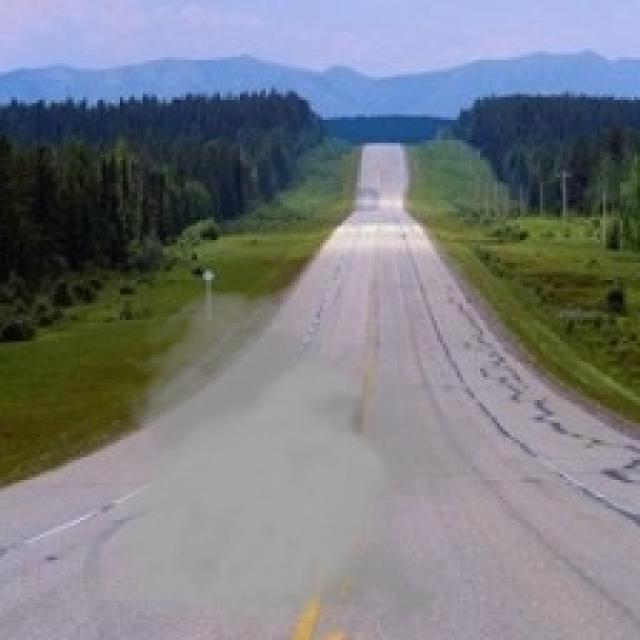Smoke: (94, 286, 480, 638)
